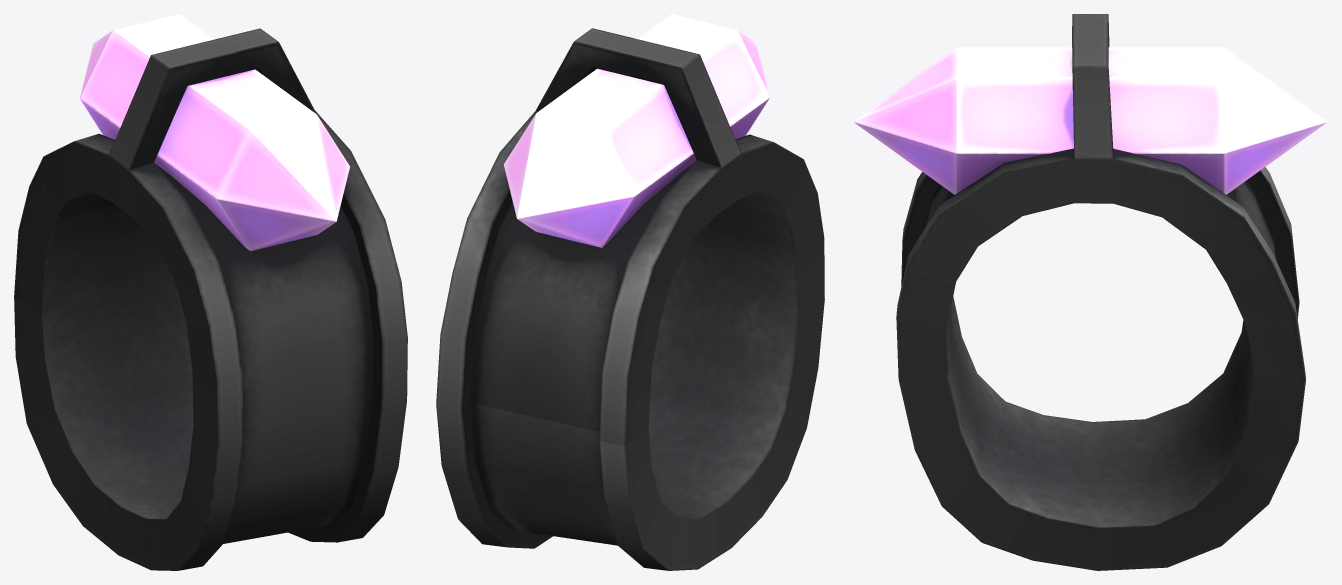
The model's file is ring.glb.
3 renders of one model, left to right at view 1: azimuth 30°, elevation 25°; view 2: azimuth 150°, elevation 25°; view 3: azimuth 270°, elevation 25°, orthographic. The views are drawn at different scales.
Visible parts, largest first — view 1: Ring; view 2: Ring; view 3: Ring.
Boxes of the visible parts, bbox=[...] form: Ring: bbox=[14, 14, 407, 570]; Ring: bbox=[436, 14, 824, 570]; Ring: bbox=[854, 14, 1326, 570].
Size of the model in its own units: 0.0203 by 0.0506 by 0.0446.
1 material, 1 textured.
